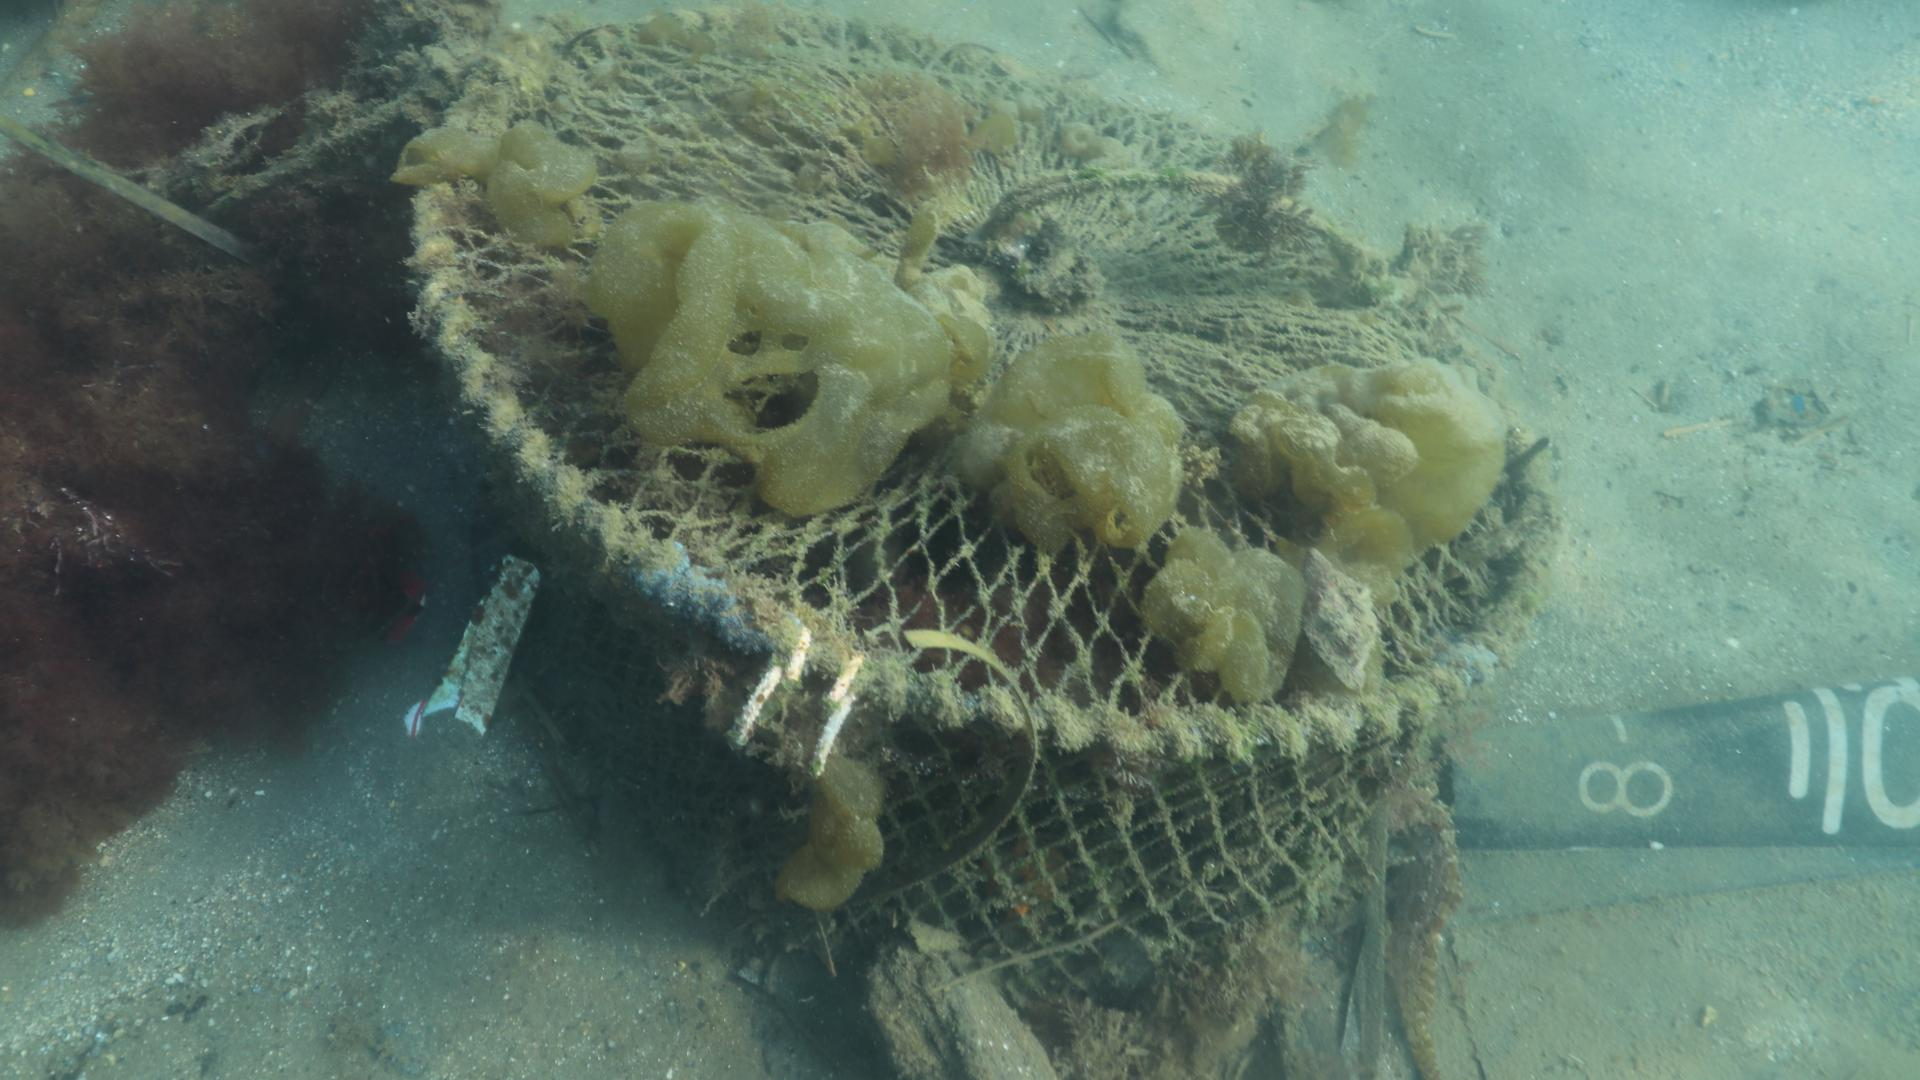circular fish trap: (407, 1, 1567, 1015)
